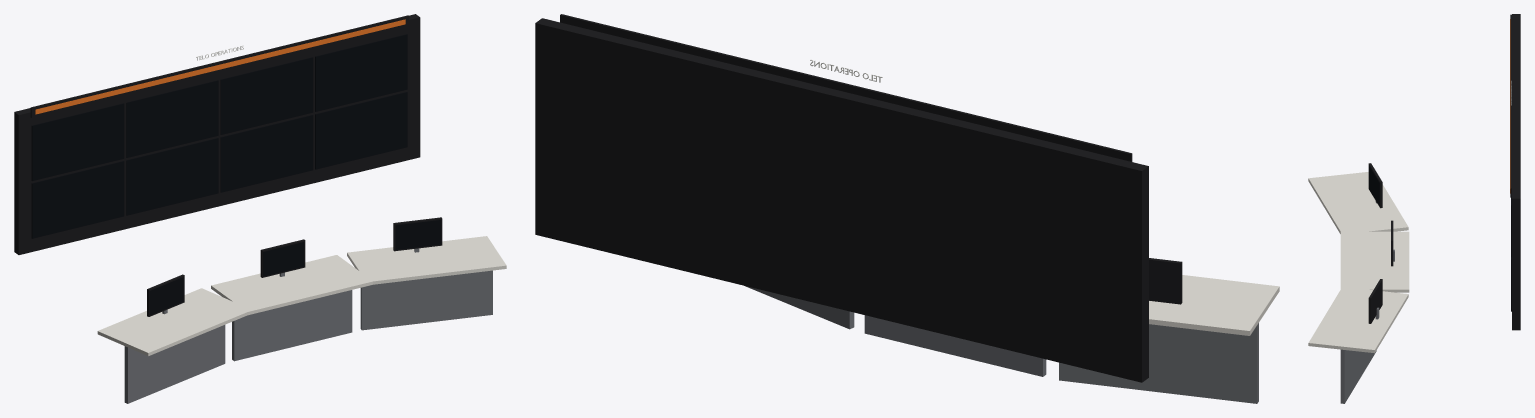
Rendered from room.ops-wall.glb.
3 views of the same model, side by side, from view 1: azimuth 30°, elevation 25°; view 2: azimuth 150°, elevation 25°; view 3: azimuth 270°, elevation 25° (orthographic). The views are drawn at different scales.
Parts seen in each view (by area): view 1: frame, desk-leg2, panel2, panel4, panel0, panel6, panel1, panel5, panel3, panel7, desk-leg1, desk2 (+8 smaller); view 2: frame, desk-leg0, ticker, desk0, desk-leg1, mon0, desk-leg2; view 3: desk1, desk2, desk0, frame, desk-leg2, mon2, ticker, mon-glass0.
Part boxes in pixels (<box>): frame: <box>14,14,420,254</box>; desk-leg2: <box>360,270,492,330</box>; panel2: <box>220,115,313,192</box>; panel4: <box>31,103,124,180</box>; panel0: <box>31,161,124,238</box>; panel6: <box>220,57,313,134</box>; panel1: <box>126,138,218,215</box>; panel5: <box>126,80,218,157</box>; panel3: <box>315,92,407,169</box>; panel7: <box>315,34,407,111</box>; desk-leg1: <box>232,290,352,361</box>; desk2: <box>347,236,506,284</box>; frame: <box>535,18,1148,382</box>; desk-leg0: <box>1059,323,1258,403</box>; ticker: <box>560,14,1132,161</box>; desk0: <box>1149,275,1279,335</box>; desk-leg1: <box>864,315,1046,376</box>; mon0: <box>1149,258,1182,304</box>; desk-leg2: <box>744,285,854,329</box>; desk1: <box>1340,231,1409,292</box>; desk2: <box>1308,289,1408,353</box>; desk0: <box>1308,172,1408,234</box>; frame: <box>1512,14,1520,330</box>; desk-leg2: <box>1340,349,1376,403</box>; mon2: <box>1368,279,1382,323</box>; ticker: <box>1510,14,1511,197</box>; mon-glass0: <box>1368,165,1379,206</box>.
Bounding box in the file's own units: 5.1 × 2.94 × 2.48.
